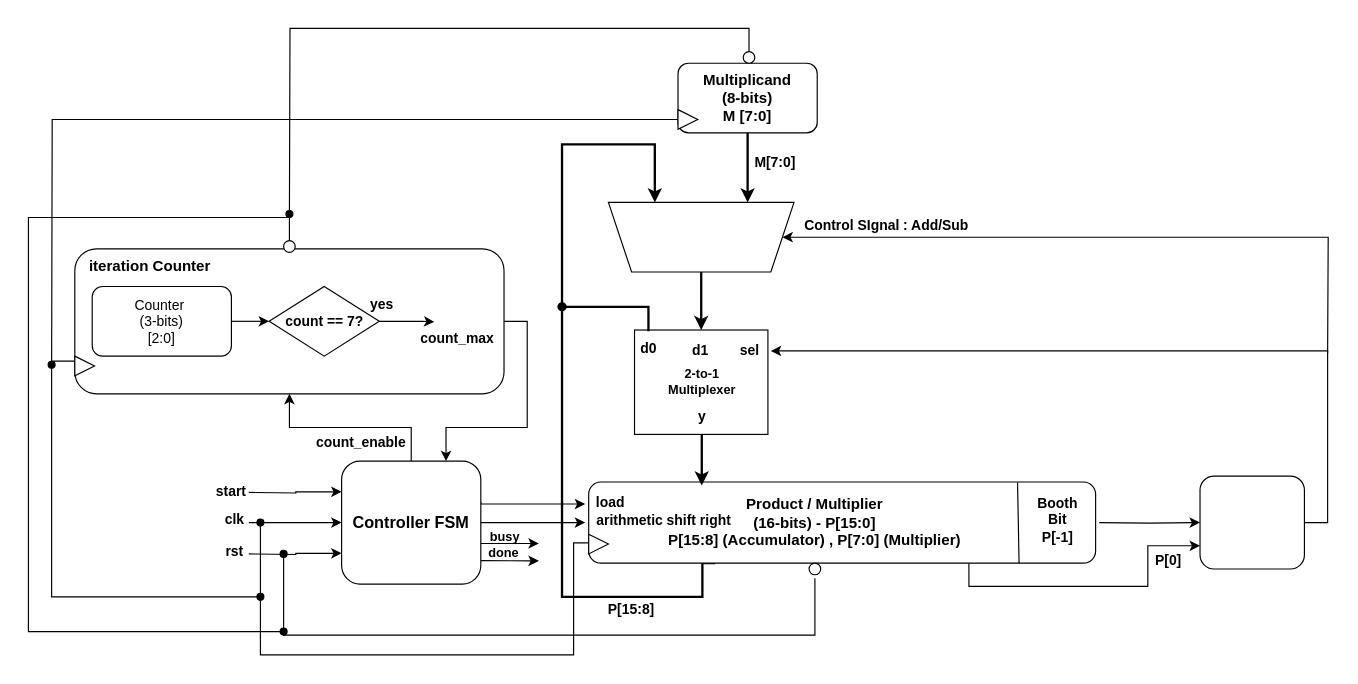
The diagram is 1358 pixels wide and 684 high, and some of its shapes have lost their labels. Here are the shapes that lost their labels. From the top down, the centre of each, then its label:
point (700, 236): Adder / Subtractor (9-bits)
point (1251, 522): Booth Encoder (Radix-2)
